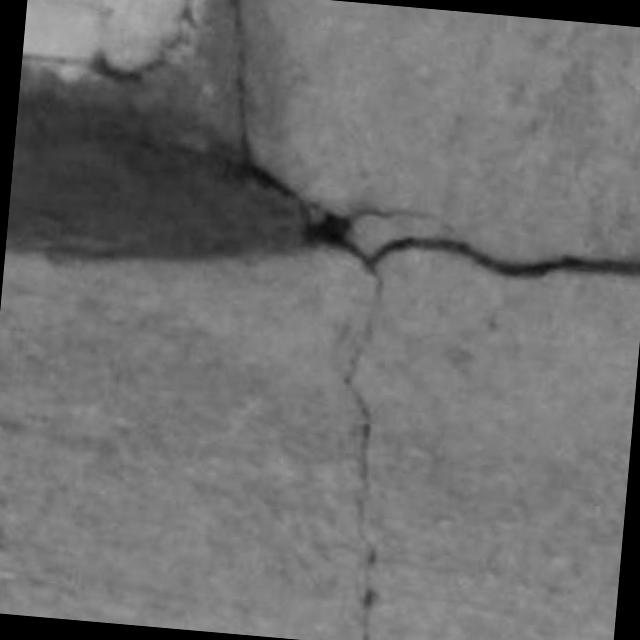crack: (5, 91, 312, 257), (344, 264, 384, 639), (357, 237, 639, 278), (226, 0, 253, 166)
